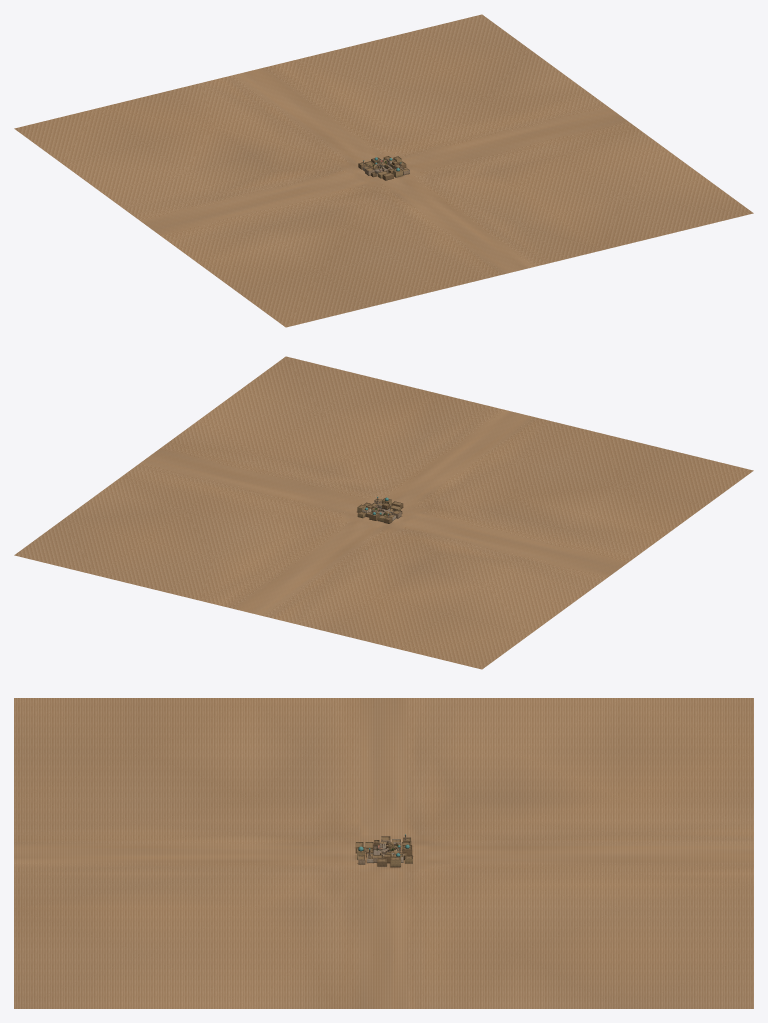
Rendered from town.glb.
3 renders of one model, top to bottom at view 1: azimuth 30°, elevation 25°; view 2: azimuth 150°, elevation 25°; view 3: azimuth 270°, elevation 25°, orthographic. The views are drawn at different scales.
Visible parts, largest first — view 1: map_ground_outer; view 2: map_ground_outer; view 3: map_ground_outer, map_roof.
Part boxes in pixels (x1,y1,x2,y2): map_ground_outer: [14, 14, 753, 327]; map_ground_outer: [14, 356, 753, 669]; map_ground_outer: [14, 698, 753, 1008]; map_roof: [356, 836, 412, 861].
Size of the model in its own units: 846 by 17.88 by 851.
15 materials, 15 textured.
